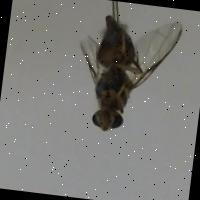Oriental-fruit-fly: (58, 0, 194, 151)
